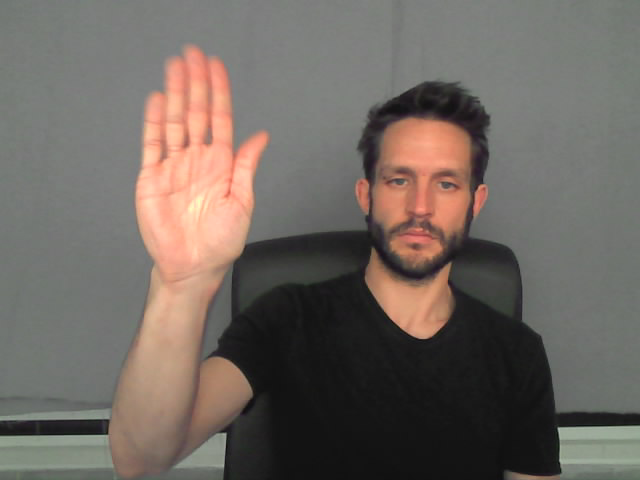stop: (134, 44, 270, 274)
